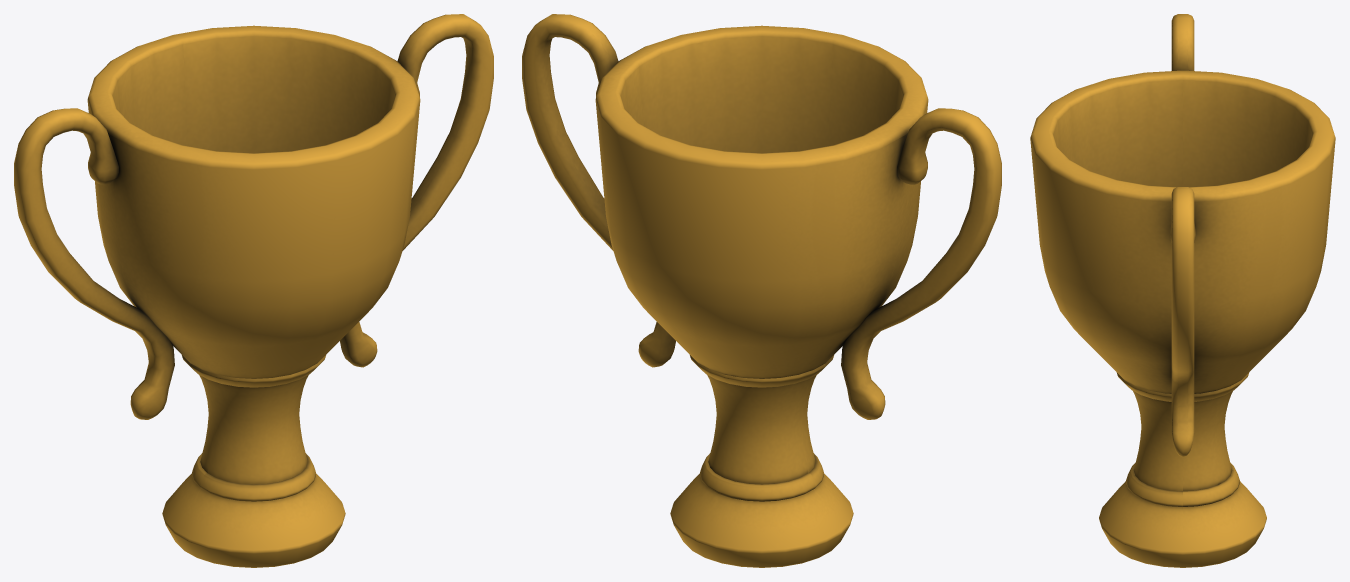
Rendered from trophy.fbx.
The picture shows the model from 3 angles, left to right: view 1: azimuth 30°, elevation 25°; view 2: azimuth 150°, elevation 25°; view 3: azimuth 270°, elevation 25°; orthographic projection. The views are drawn at different scales.
Visible parts, largest first — view 1: trophy; view 2: trophy; view 3: trophy.
Boxes of the visible parts, bbox=[...] form: trophy: bbox=[14, 14, 493, 567]; trophy: bbox=[522, 14, 1001, 567]; trophy: bbox=[1030, 14, 1335, 567].
Size of the model in its own units: 32.1 by 30.55 by 19.56.
1 material, 1 textured.
